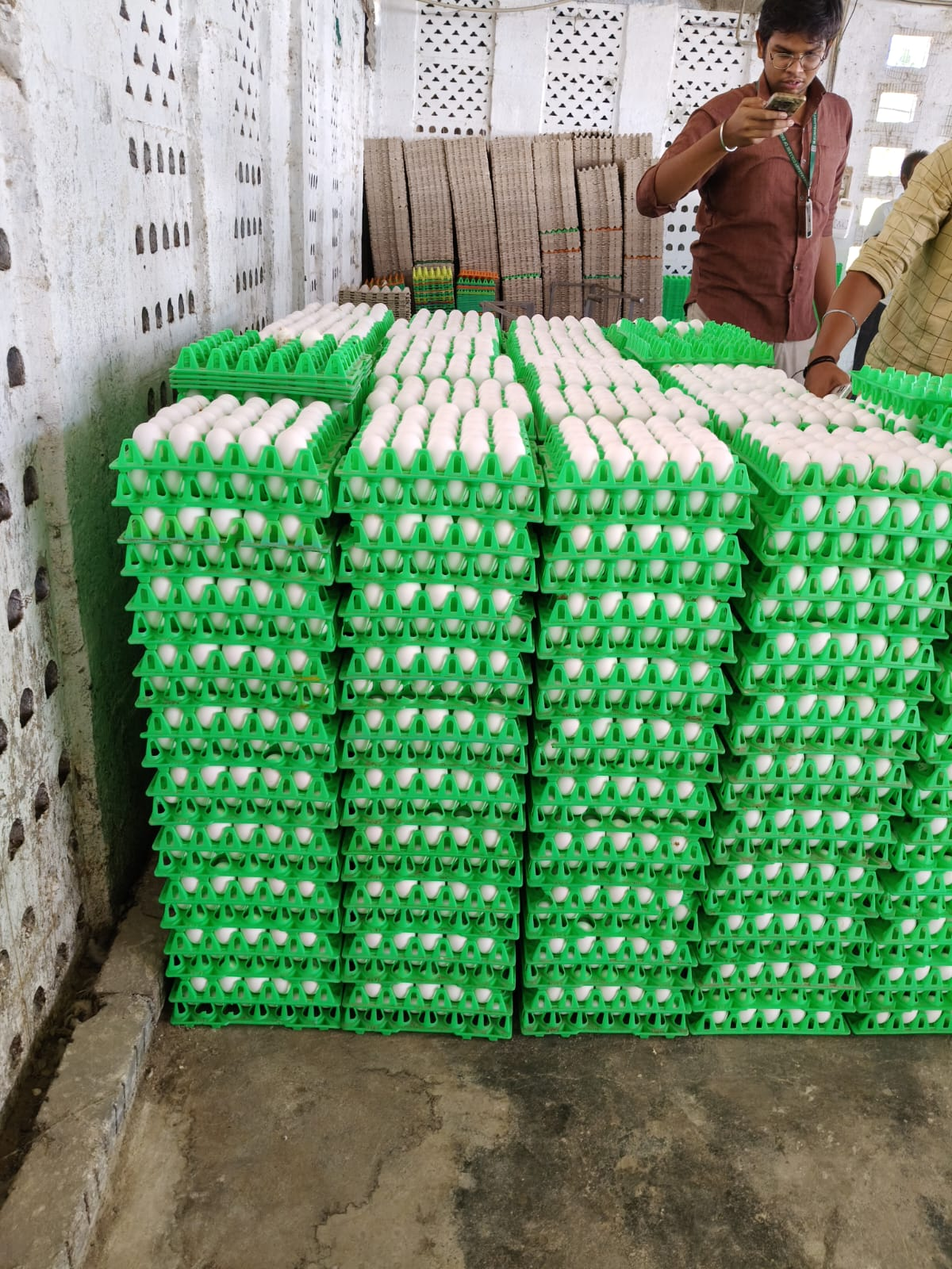egg_tray: (140, 389, 325, 470), (559, 411, 745, 485), (363, 405, 529, 481), (762, 421, 952, 483), (755, 681, 919, 724), (140, 728, 324, 766), (127, 603, 326, 638), (138, 763, 326, 799), (146, 636, 314, 676), (133, 535, 320, 570), (129, 662, 317, 696), (774, 563, 942, 601), (127, 471, 322, 503), (138, 570, 327, 603), (566, 524, 744, 559), (774, 532, 952, 567), (360, 649, 533, 684), (162, 860, 316, 899), (749, 660, 941, 691), (746, 814, 883, 856), (768, 624, 932, 659), (171, 792, 326, 828), (357, 510, 526, 543), (343, 544, 541, 572), (563, 649, 720, 684), (547, 483, 750, 510), (765, 713, 920, 748), (124, 508, 310, 537), (559, 616, 731, 647), (566, 587, 727, 620), (170, 971, 330, 1003), (779, 592, 944, 623), (544, 682, 720, 711), (746, 740, 904, 772), (136, 705, 326, 730), (738, 774, 890, 805), (170, 920, 327, 950), (359, 706, 522, 734), (557, 846, 702, 877), (351, 476, 520, 502), (360, 925, 491, 958), (717, 998, 842, 1031), (554, 766, 696, 795), (365, 979, 495, 1010), (739, 806, 894, 832), (370, 828, 513, 856), (367, 584, 514, 611), (186, 944, 321, 973), (562, 711, 701, 739), (539, 950, 673, 979), (720, 916, 861, 943), (151, 827, 330, 848), (739, 882, 864, 912), (724, 949, 849, 979), (349, 738, 512, 761), (365, 773, 512, 798), (536, 981, 675, 1007), (535, 797, 698, 819), (551, 833, 703, 856), (352, 670, 526, 690), (176, 901, 334, 923), (789, 500, 952, 521), (359, 614, 545, 632), (543, 743, 727, 761), (373, 878, 518, 899), (546, 908, 697, 927), (743, 858, 878, 879), (357, 795, 504, 814), (543, 885, 702, 902), (362, 858, 520, 875), (578, 559, 757, 574), (368, 958, 501, 973), (538, 936, 669, 951)
